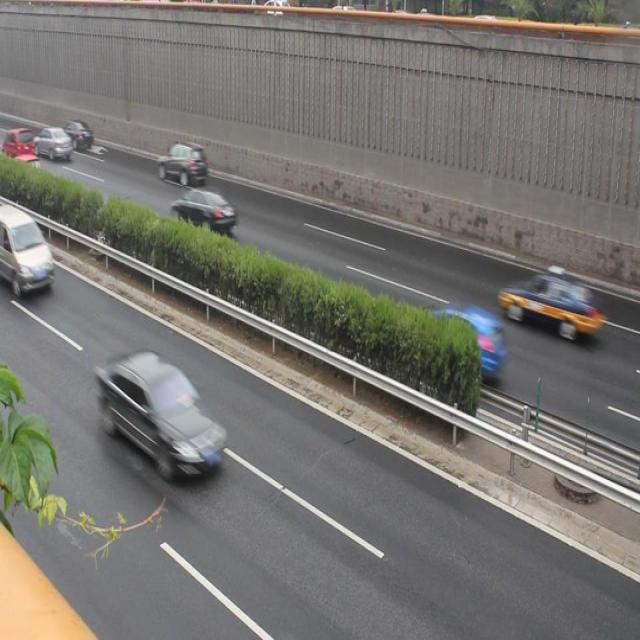car: (99, 349, 225, 479), (496, 266, 603, 342), (400, 303, 503, 378), (169, 186, 238, 238), (158, 138, 208, 188), (31, 127, 72, 163), (59, 121, 94, 153)
truck: (0, 201, 52, 294)
